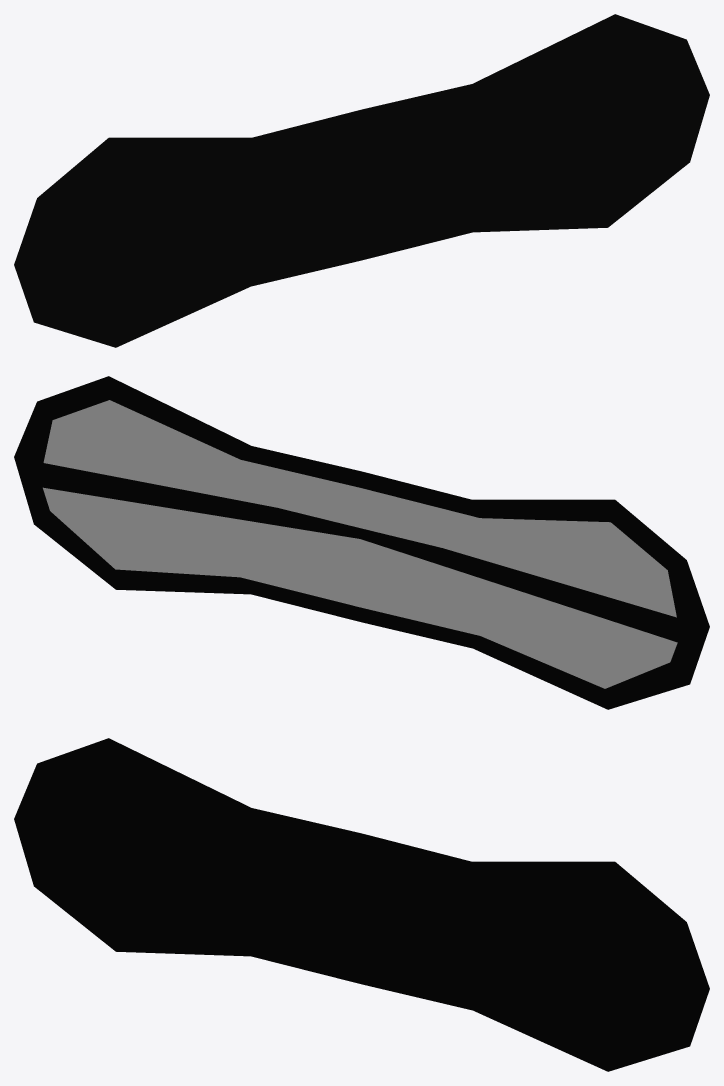
The model's file is Mouth_MM_TeethClenched.fbx.
The picture shows the model from 3 angles, top to bottom: view 1: azimuth 30°, elevation 25°; view 2: azimuth 150°, elevation 25°; view 3: azimuth 330°, elevation 25°; orthographic projection.
Parts seen in each view (by area): view 1: Disc; view 2: Disc_1, Disc; view 3: Disc.
Boxes of the visible parts, x1,y1,x2,y2 form: Disc: (14,14,709,347); Disc_1: (43,400,677,688); Disc: (14,376,709,709); Disc: (14,738,709,1071).
Size of the model in its own units: 6.73 by 1.96 by 0.0299.
1 material, 1 textured.
